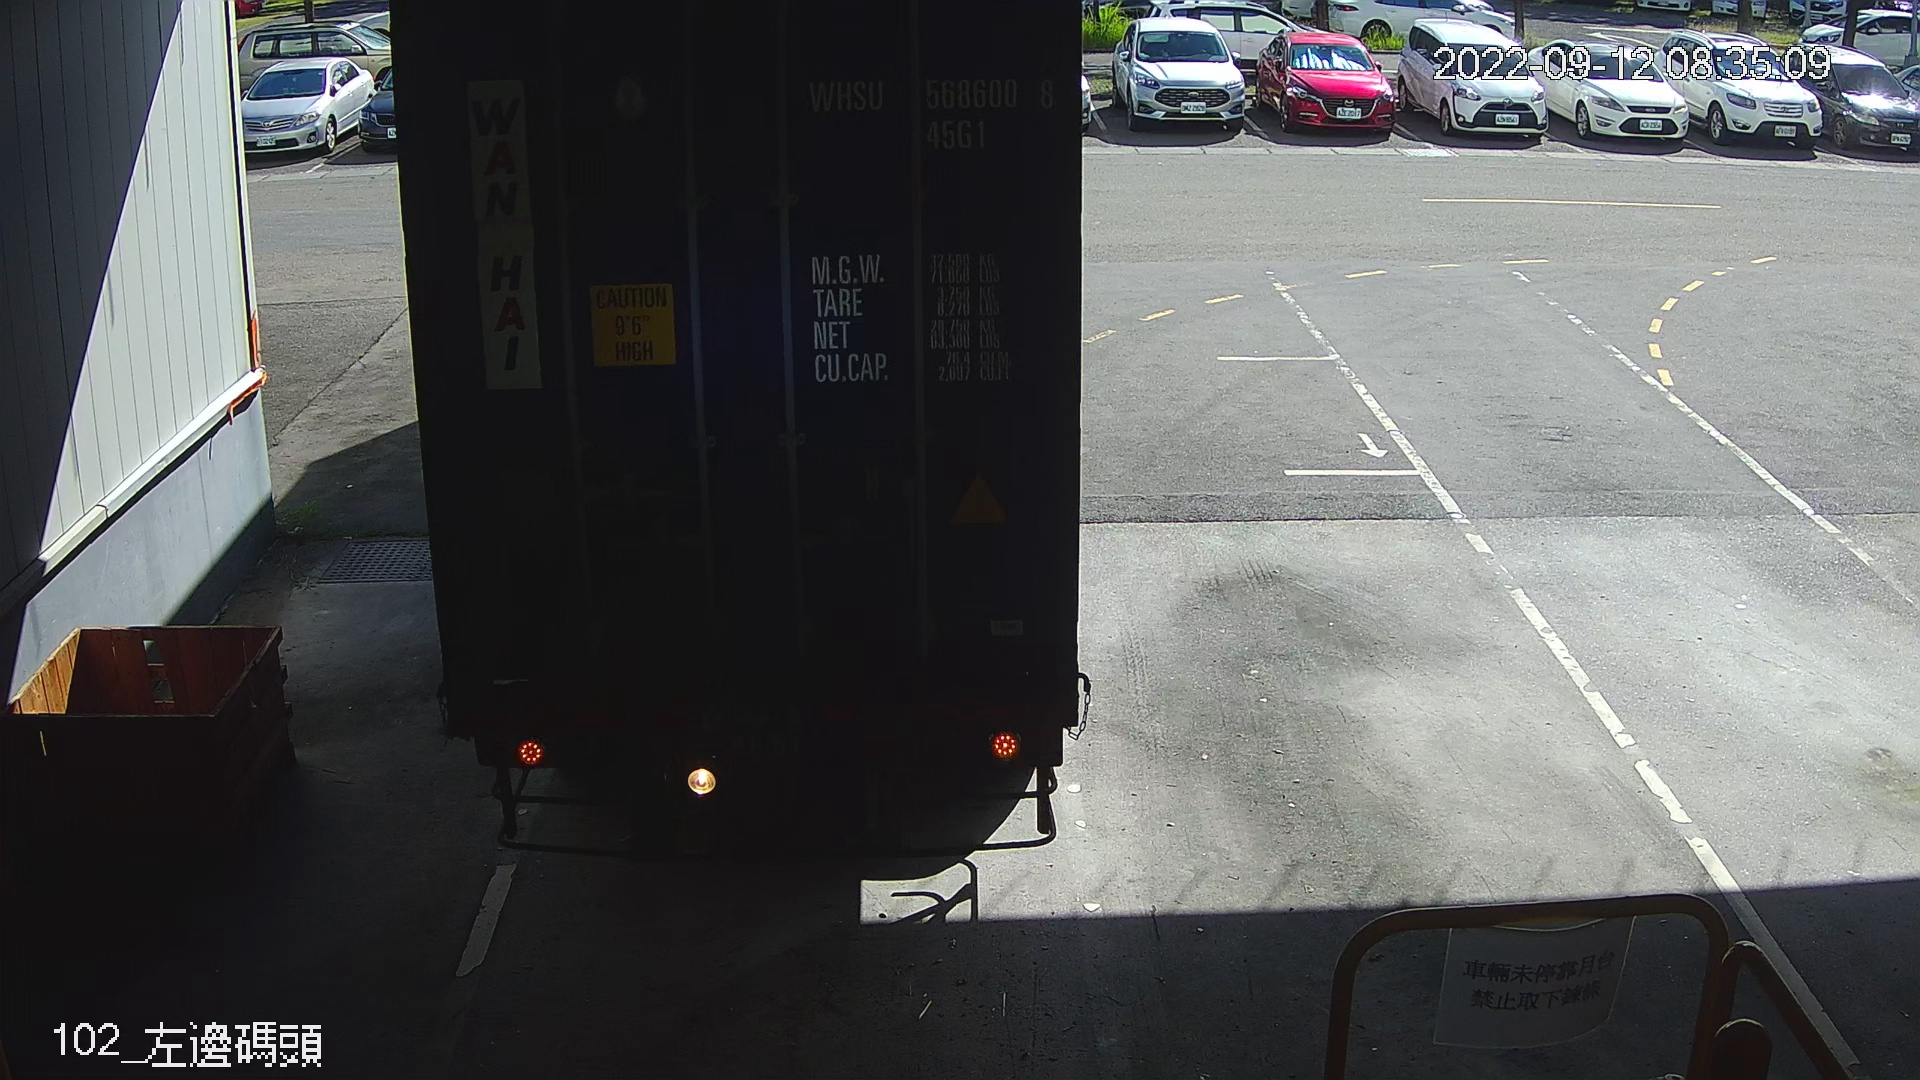container: (796, 63, 1067, 164)
